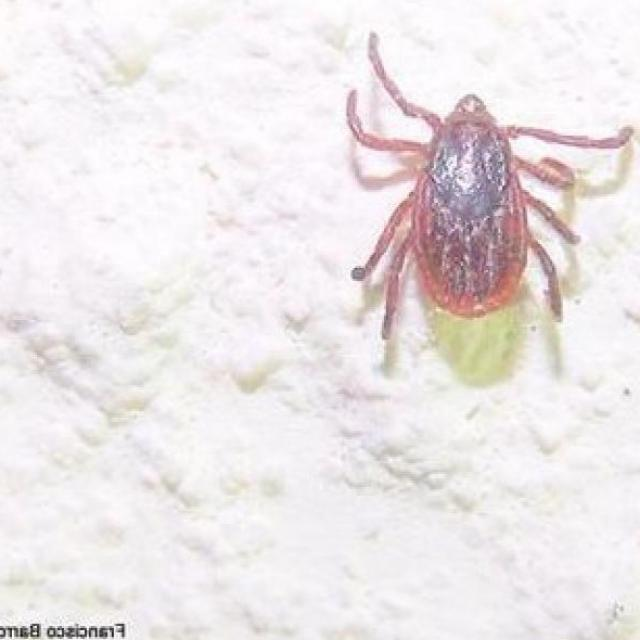Rhipicephalus Sanguineus-F: (344, 34, 633, 370)
